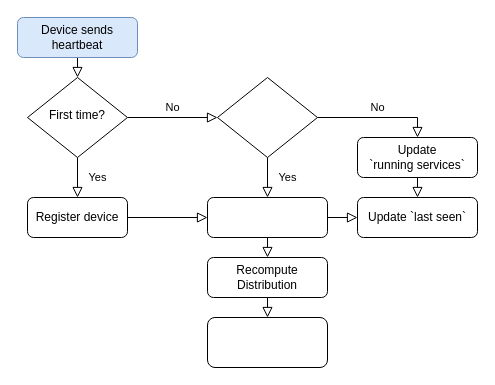
This 495x385 diagram has some shape labels left out. Here are the shapes that lost their labels. From the top down, the centre of each, then its label:
At point 267,117: "State=offline?".
At point 267,217: "Update `state=online`".
At point 267,342: "Generate and send docker-compose files to all devices".
